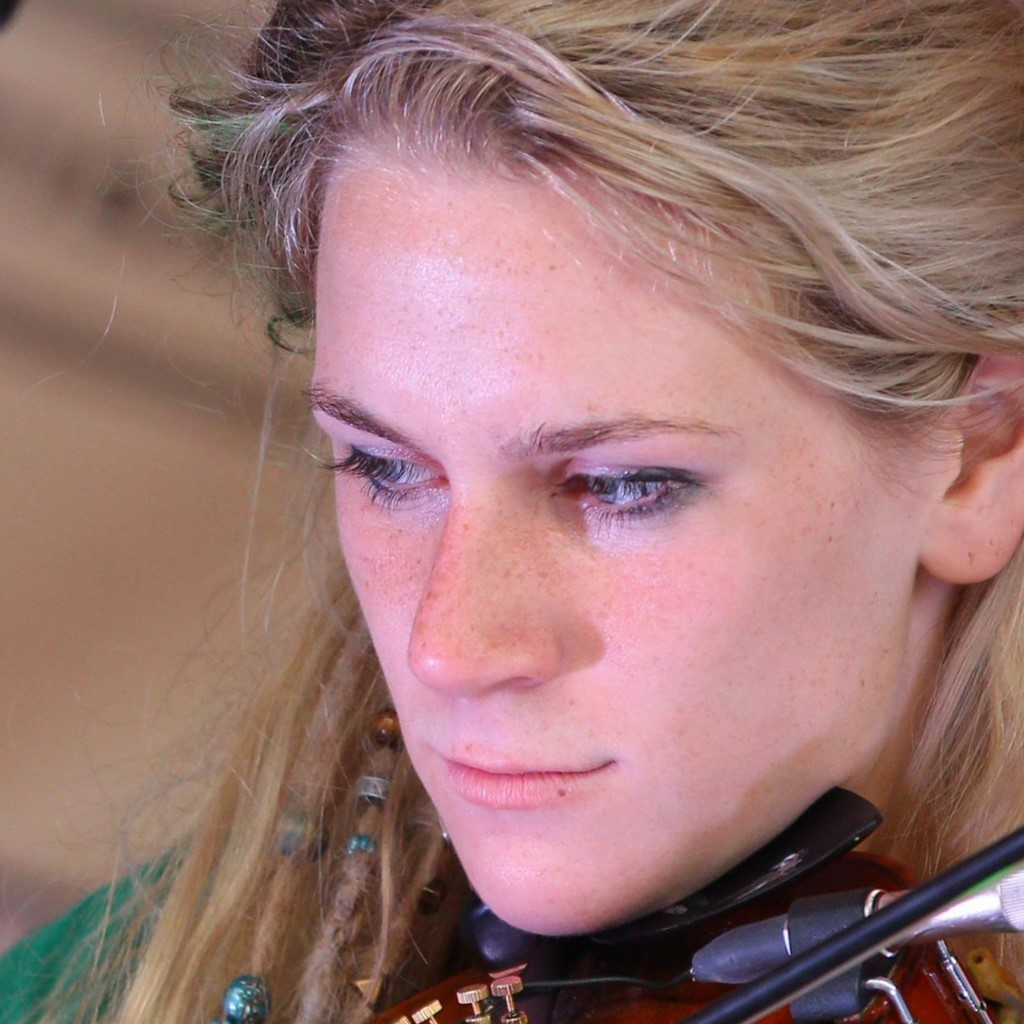sin_mascara: (308, 49, 984, 931)
